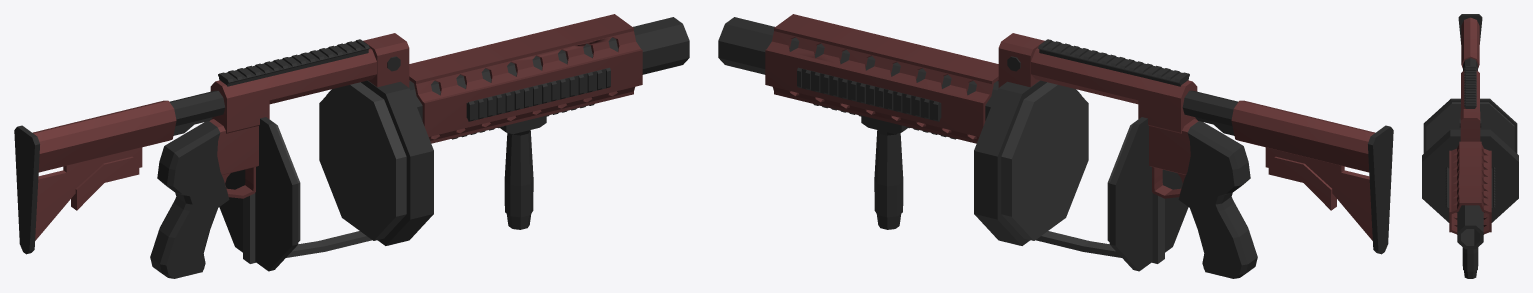
File: HeavyWeapon1_05.fbx
3 renders of one model, left to right at view 1: azimuth 30°, elevation 25°; view 2: azimuth 150°, elevation 25°; view 3: azimuth 270°, elevation 25°, orthographic. The views are drawn at different scales.
Parts seen in each view (by area): view 1: HeavyWeapon1_05; view 2: HeavyWeapon1_05; view 3: HeavyWeapon1_05.
Boxes of the visible parts, left/top/right/bottom form: HeavyWeapon1_05: left=14, top=14, right=689, bottom=278; HeavyWeapon1_05: left=718, top=14, right=1393, bottom=278; HeavyWeapon1_05: left=1422, top=14, right=1518, bottom=278.
Size of the model in its own units: 0.8535 by 0.2756 by 0.1899.
